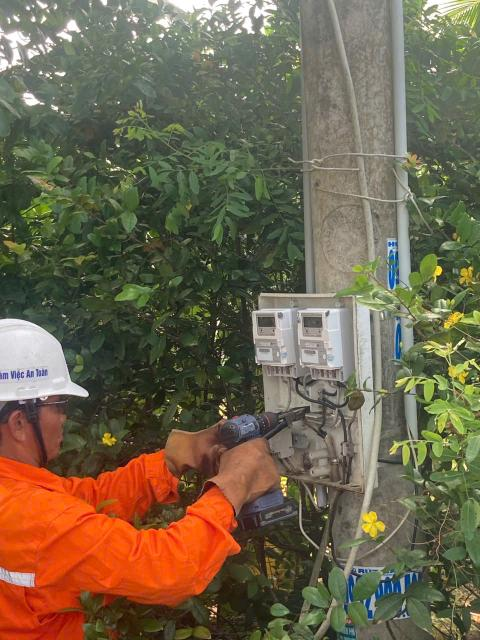gloves: (213, 434, 288, 527), (160, 418, 254, 468)
helmet: (0, 306, 116, 410)
